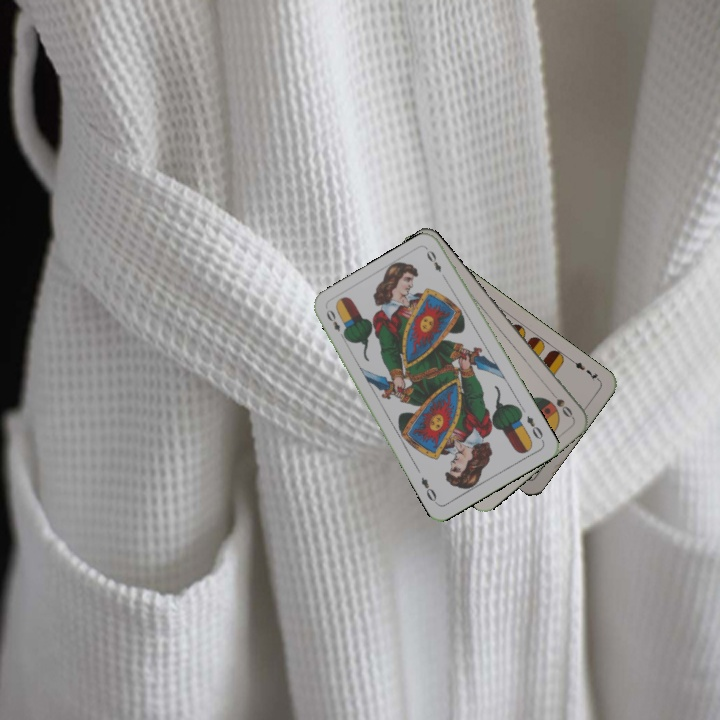E7: (567, 355, 603, 384)
EO: (322, 305, 349, 342), (523, 412, 547, 444)
SO: (546, 386, 576, 420)
